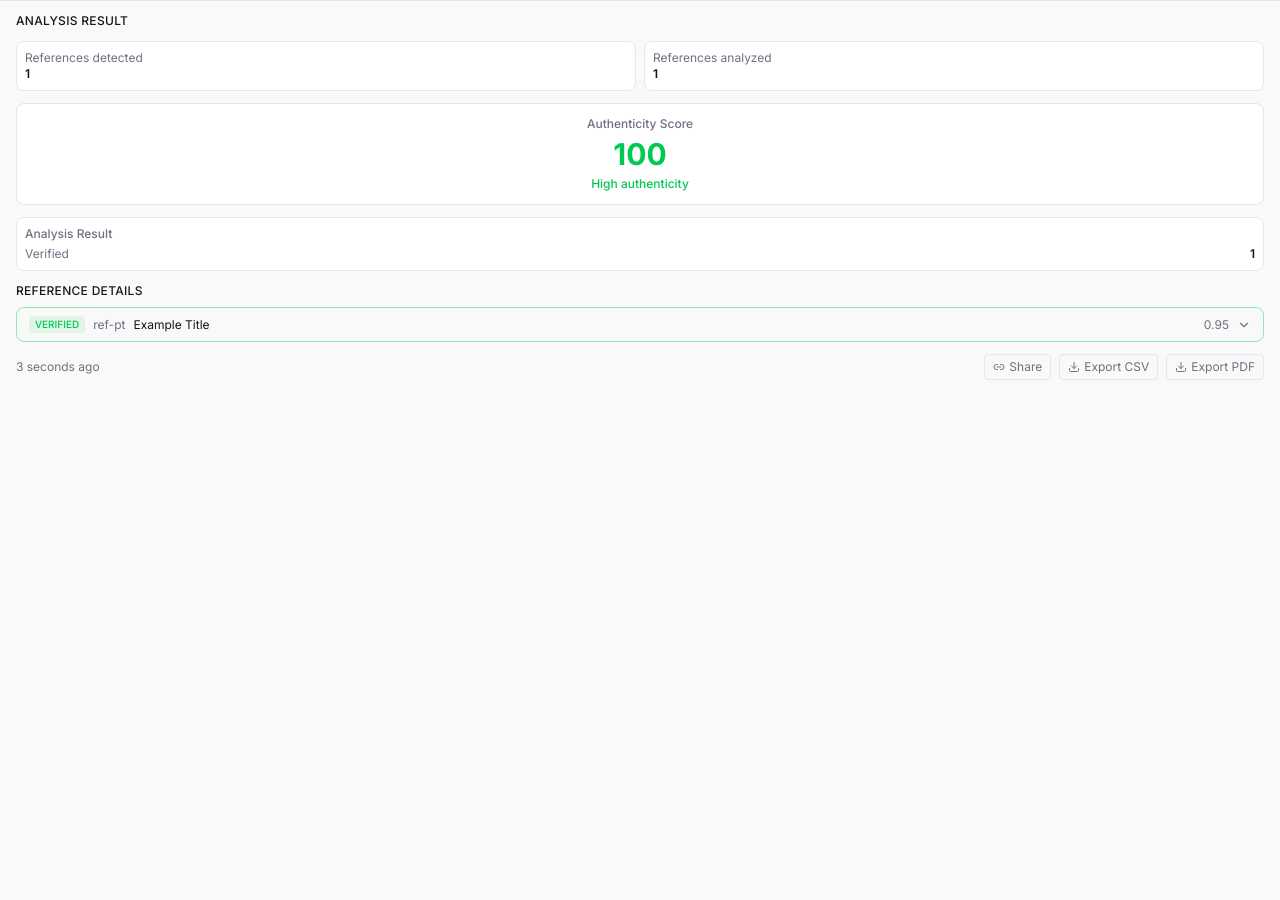
ExpandedDetail — cross-locale immutability invariant › renders decisionReason verbatim in Portuguese even when UI locale is EN
Step 1. Click the button "Verified ref-pt Example Title 0.95" → (57, 325), box [17,308,1263,341]
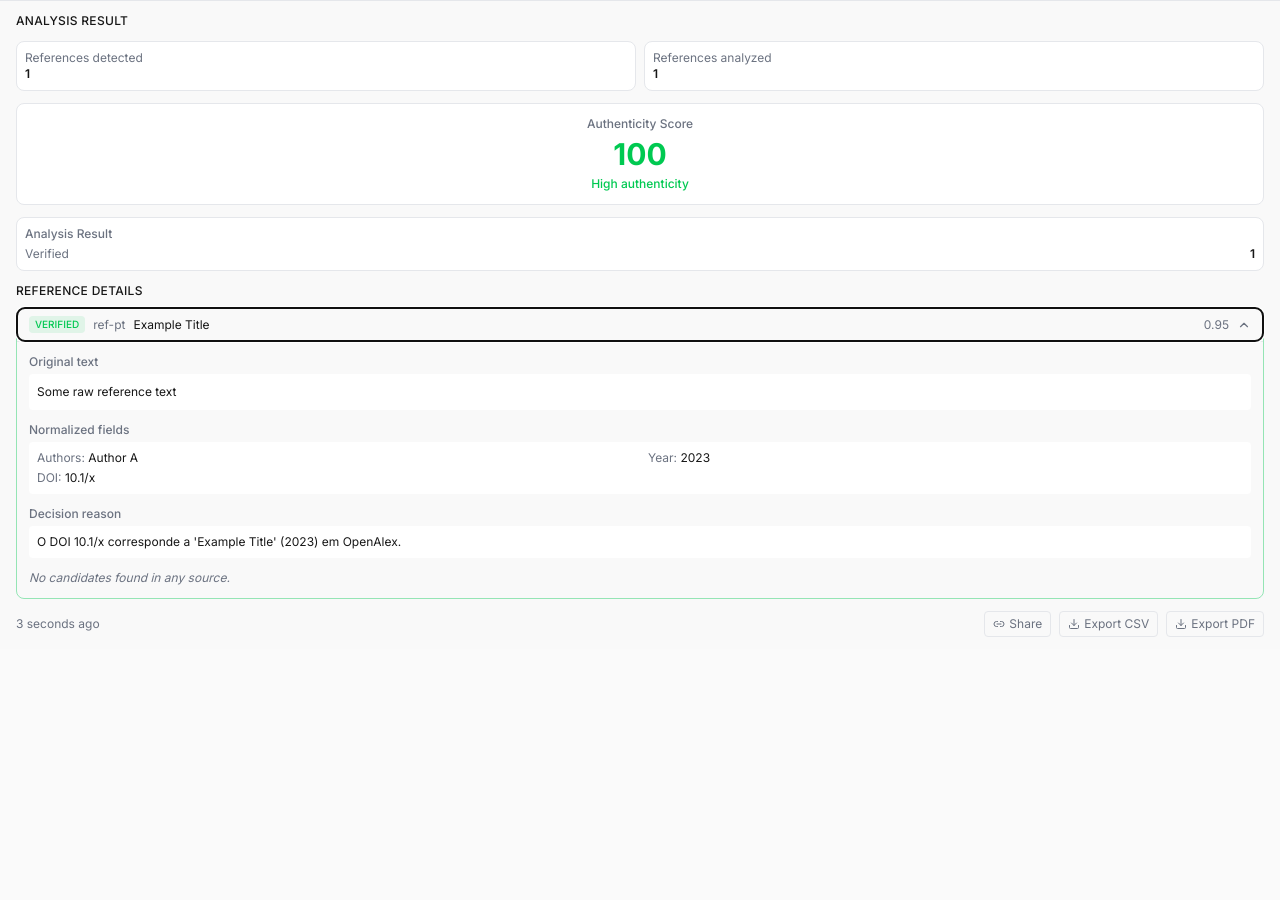
Now the text "O DOI 10.1/x corresponde a 'Example Title' (2023) em OpenAlex." is shown, box [29,526,1251,558]
